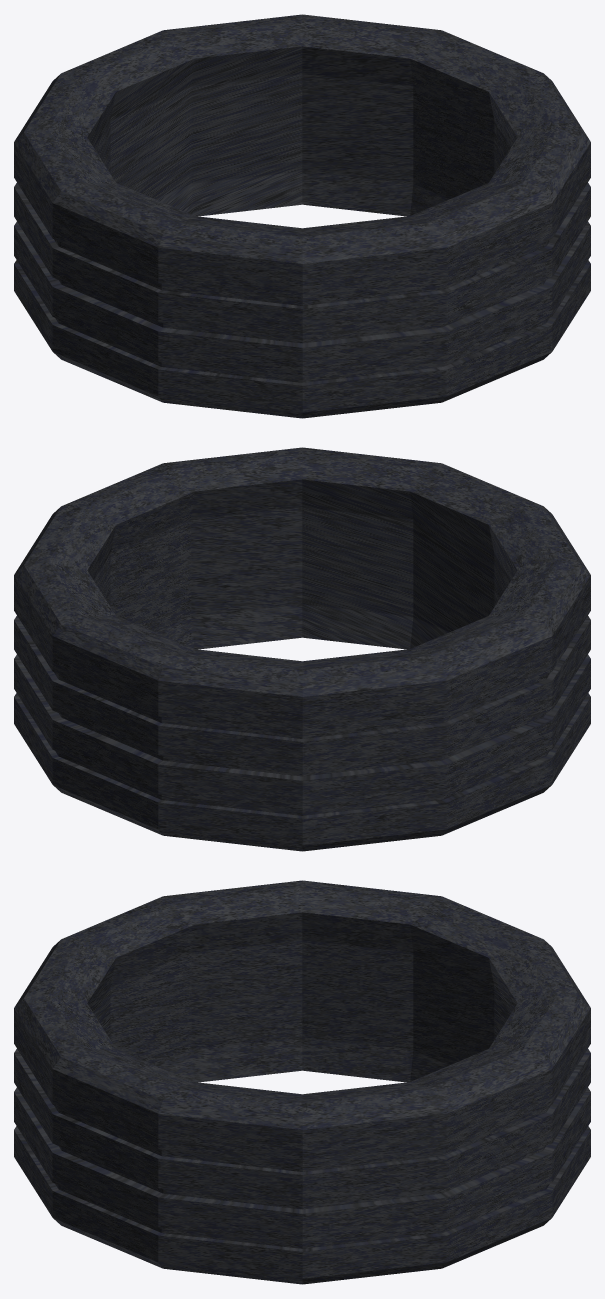
File: llanta.fbx
3 views of the same model, one above another, from view 1: azimuth 30°, elevation 25°; view 2: azimuth 150°, elevation 25°; view 3: azimuth 270°, elevation 25° (orthographic).
Parts seen in each view (by area): view 1: Llanta; view 2: Llanta; view 3: Llanta.
Part boxes in pixels (x1,y1,x2,y2): Llanta: (14, 14, 590, 418); Llanta: (14, 447, 590, 851); Llanta: (14, 880, 590, 1284).
Size of the model in its own units: 0.6 by 0.6 by 0.2.
Materials: 1 (1 with a texture image).
